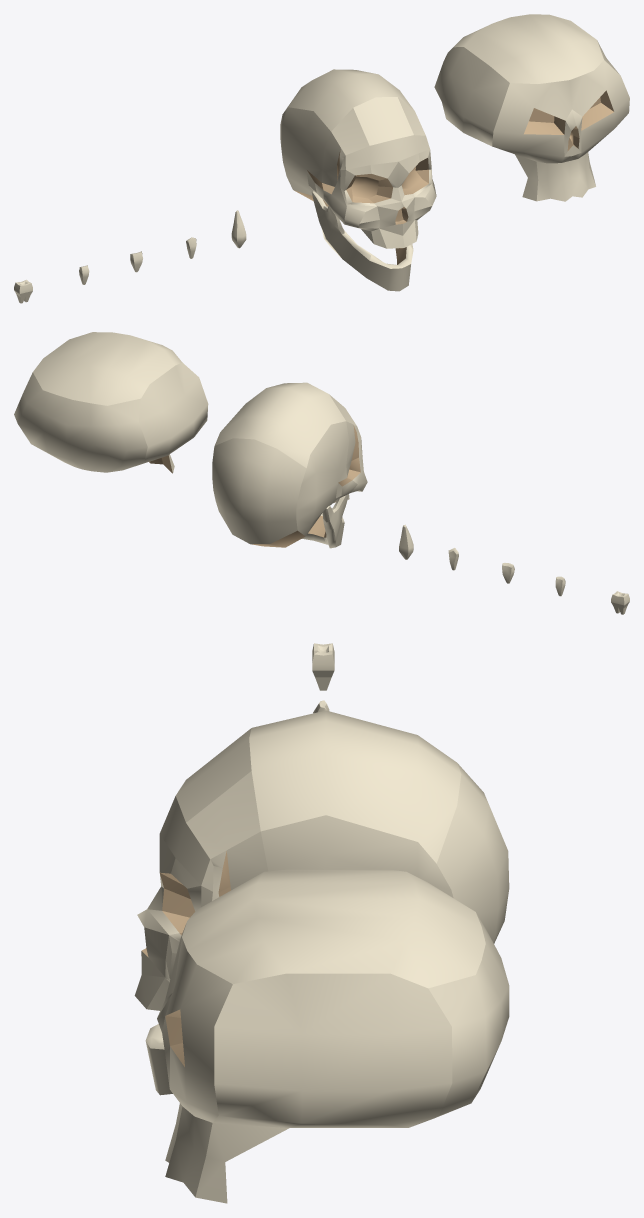
Rendered from SkullPack.fbx.
3 renders of one model, top to bottom at view 1: azimuth 30°, elevation 25°; view 2: azimuth 150°, elevation 25°; view 3: azimuth 270°, elevation 25°, orthographic. The views are drawn at different scales.
Visible parts, largest first — view 1: Skull_Cartoon, Skull_Realistic, Skull__RealisticJaw; view 2: Skull_Cartoon, Skull_Realistic, Skull__RealisticJaw; view 3: Skull_Cartoon, Skull_Realistic, Skull__RealisticJaw, Tooth_Molar.
Part boxes in pixels (<box>): Skull_Cartoon: <box>434,14,629,201</box>; Skull_Realistic: <box>280,69,436,248</box>; Skull__RealisticJaw: <box>311,191,413,291</box>; Skull_Cartoon: <box>14,332,208,473</box>; Skull_Realistic: <box>212,382,367,547</box>; Skull__RealisticJaw: <box>302,494,348,548</box>; Skull_Cartoon: <box>157,869,509,1203</box>; Skull_Realistic: <box>134,710,509,1010</box>; Skull__RealisticJaw: <box>145,1024,172,1095</box>; Tooth_Molar: <box>312,643,334,690</box>.
Bounding box in the file's own units: 259 × 77.56 × 71.35.
Materials: 1 (1 with a texture image).
